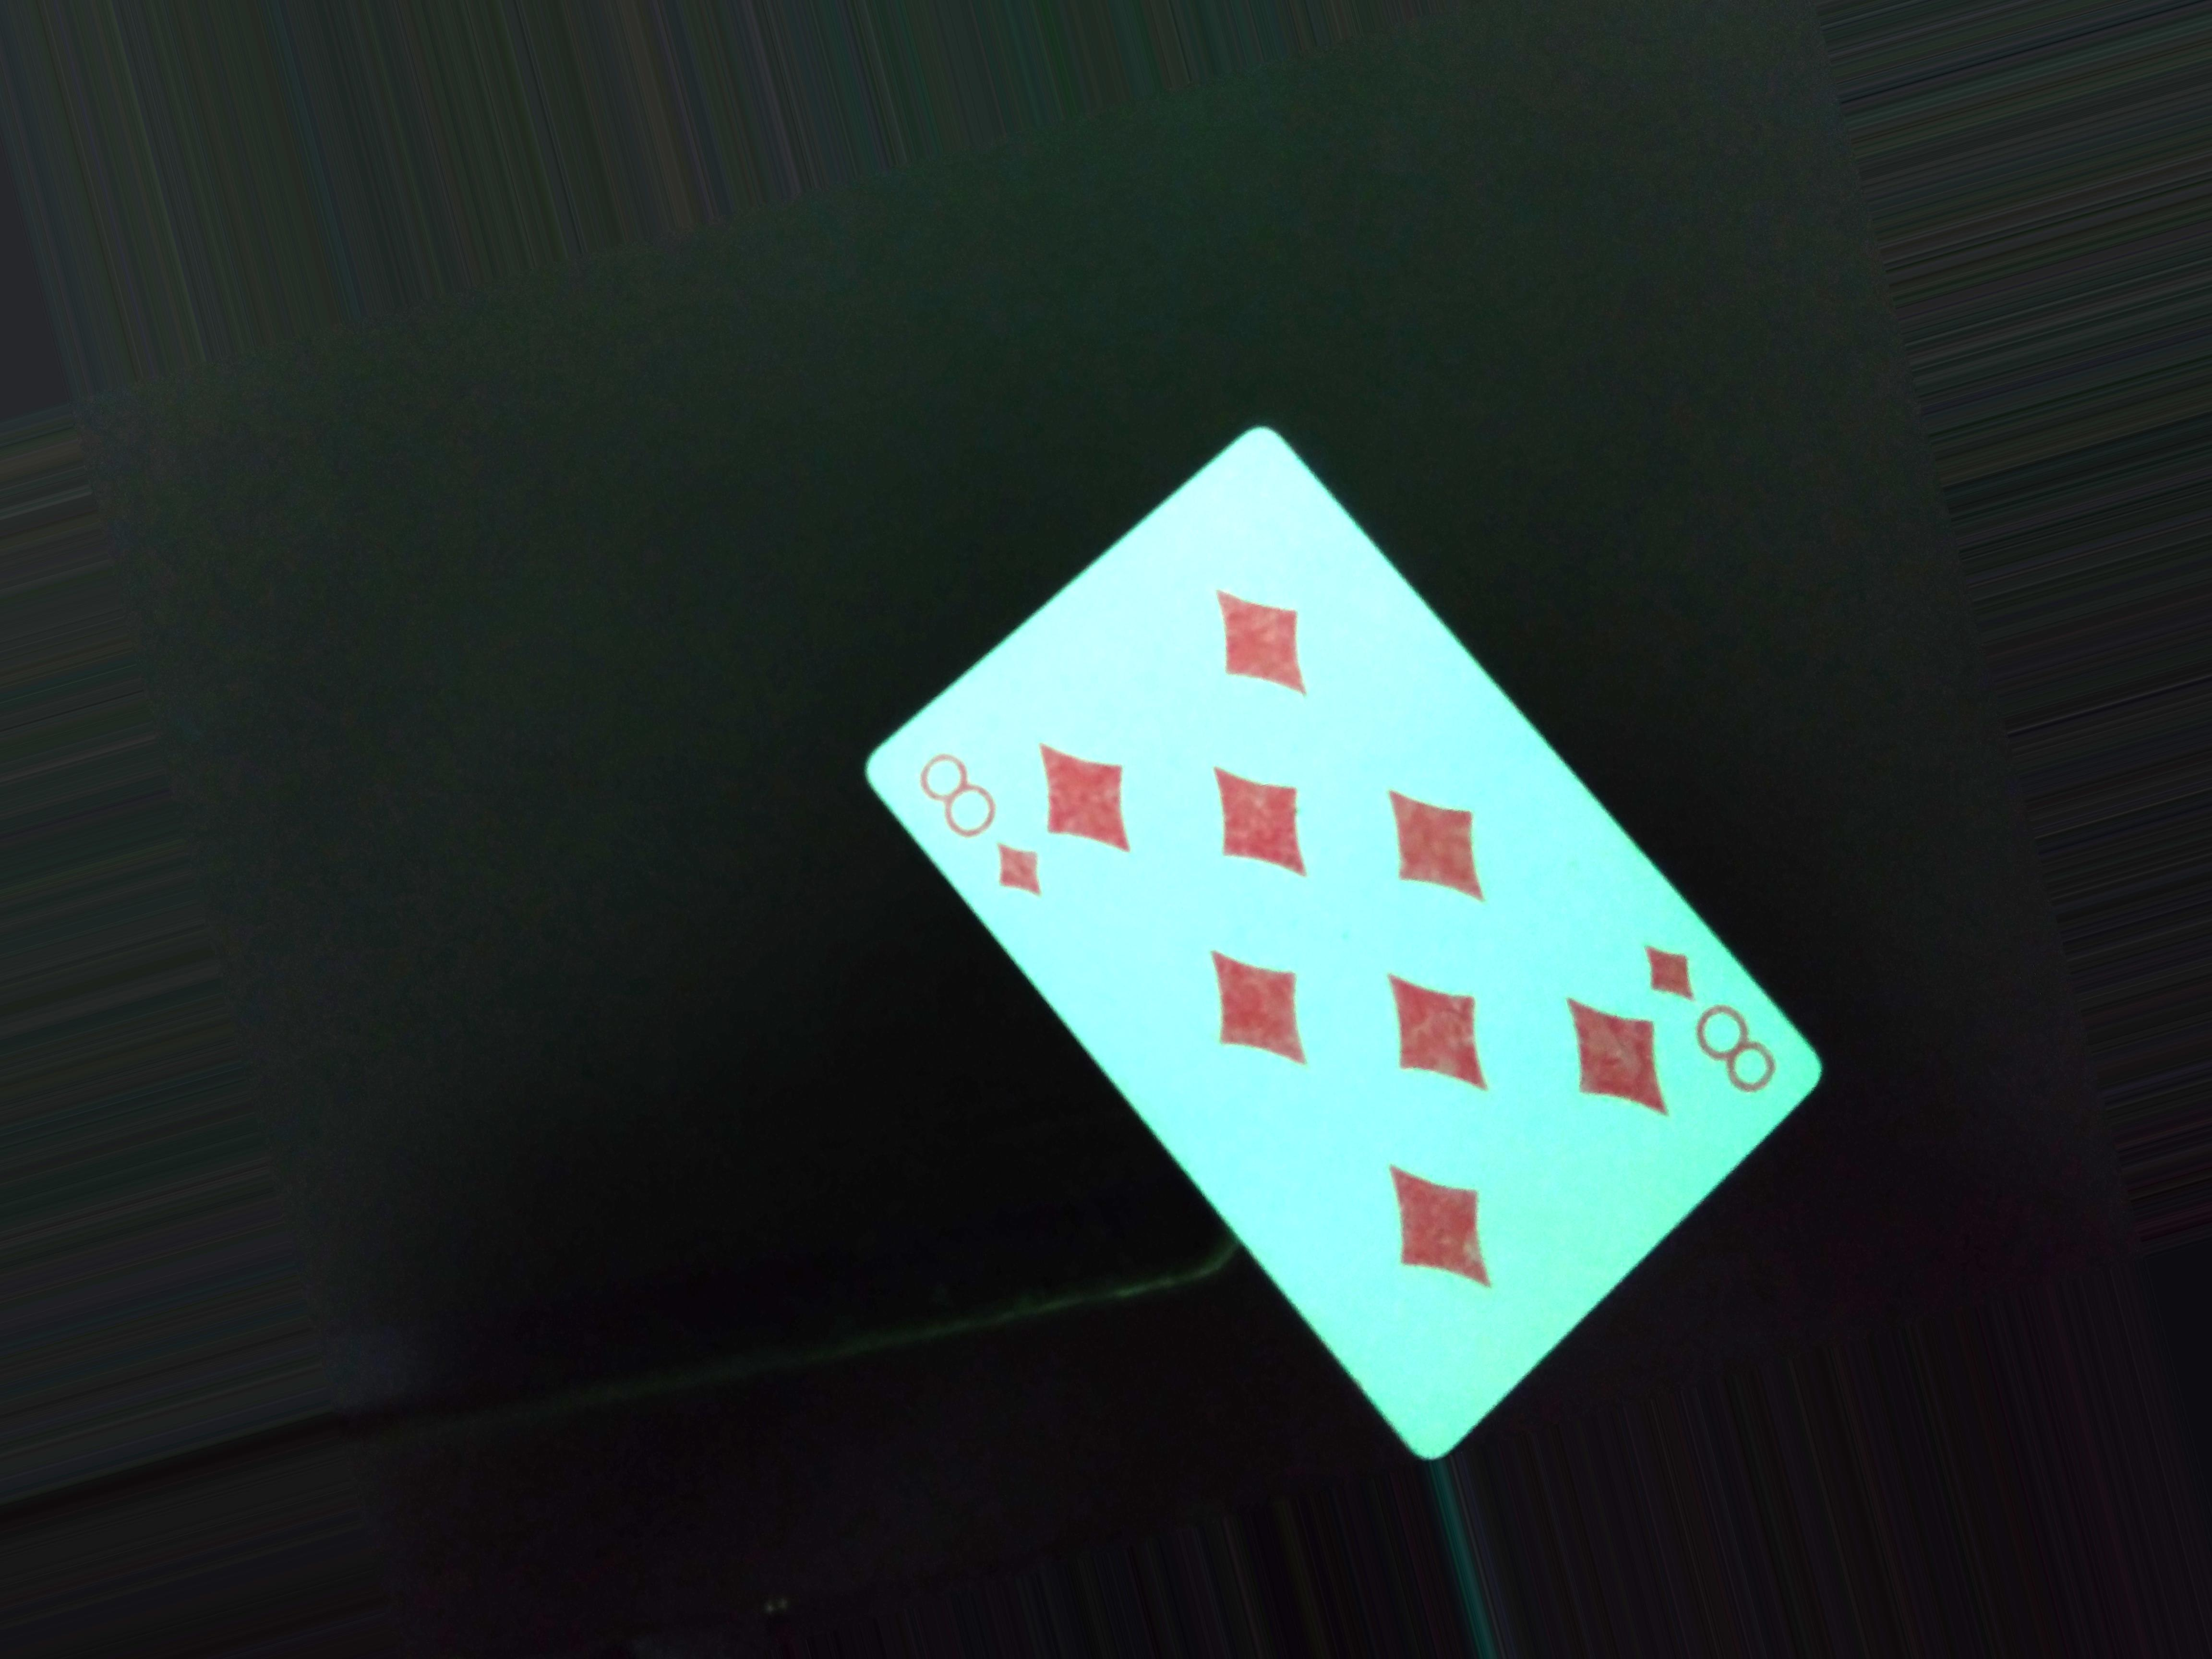8D: (892, 735, 1057, 904)
